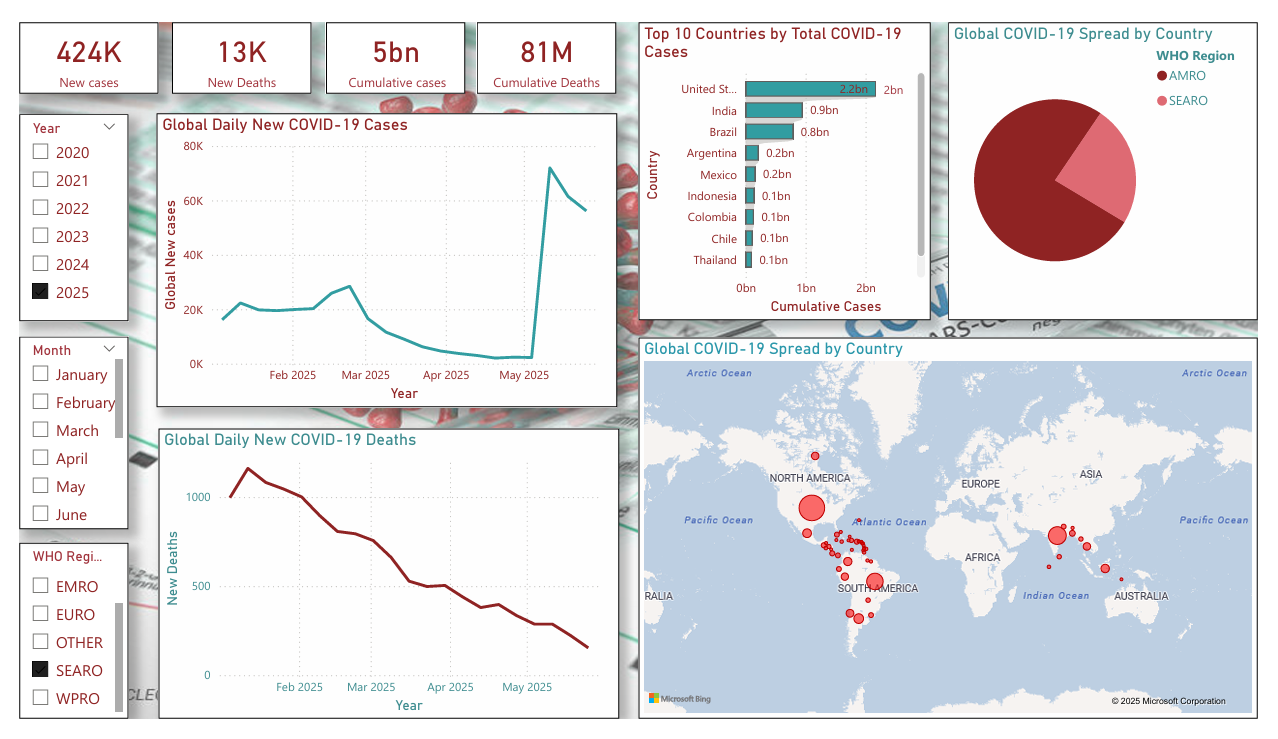

Layout of this report page (visuals, bound fields, positions):
{"tool":"powerbi","page":{"name":"Page 1","canvas":[1280,720],"ordinal":0},"visuals":[{"type":"lineChart","title":"Global Daily New COVID-19 Cases","fields":{"Y":["Sum(WHO_COVID19_cleaned.New_cases)"],"Category":["WHO_COVID19_cleaned.Date_reported.Variation.Date Hierarchy.Year","WHO_COVID19_cleaned.Date_reported.Variation.Date Hierarchy.Month","WHO_COVID19_cleaned.Date_reported.Variation.Date Hierarchy.Day"]},"box":[142,94,476,304],"z":0},{"type":"card","fields":{"Values":["Sum(WHO_COVID19_cleaned.New_cases)"]},"box":[0,0,144.1,74.1],"z":1000},{"type":"card","fields":{"Values":["Sum(WHO_COVID19_cleaned.New_deaths)"]},"box":[157.8,0,144.1,74.1],"z":2000},{"type":"card","fields":{"Values":["Sum(WHO_COVID19_cleaned.Cumulative_cases)"]},"box":[317,0,144.1,74.1],"z":3000},{"type":"card","fields":{"Values":["Sum(WHO_COVID19_cleaned.Cumulative_deaths)"]},"box":[473.4,0,144.1,74.1],"z":4000},{"type":"slicer","fields":{"Values":["WHO_COVID19_cleaned.Date_reported.Variation.Date Hierarchy.Year"]},"box":[0,94.7,112.5,214.1],"z":5000},{"type":"slicer","fields":{"Values":["WHO_COVID19_cleaned.WHO_region"]},"box":[0,537.9,112.5,182.5],"z":6000},{"type":"lineChart","title":"Global Daily New COVID-19 Deaths","fields":{"Category":["WHO_COVID19_cleaned.Date_reported.Variation.Date Hierarchy.Year","WHO_COVID19_cleaned.Date_reported.Variation.Date Hierarchy.Month","WHO_COVID19_cleaned.Date_reported.Variation.Date Hierarchy.Day"],"Y":["Sum(WHO_COVID19_cleaned.New_deaths)"]},"box":[144,420,476,300],"z":7000},{"type":"barChart","title":"Top 10 Countries by Total COVID-19 Cases","fields":{"Y":["Sum(WHO_COVID19_cleaned.Cumulative_cases)"],"Category":["WHO_COVID19_cleaned.Country"]},"box":[640,0,302,308],"z":8000},{"type":"slicer","fields":{"Values":["WHO_COVID19_cleaned.Date_reported.Variation.Date Hierarchy.Month"]},"box":[0,325.2,112.5,199],"z":9000},{"type":"pieChart","title":"Global COVID-19 Spread by Country","fields":{"Y":["Sum(WHO_COVID19_cleaned.Cumulative_cases)"],"Category":["WHO_COVID19_cleaned.WHO_region"]},"box":[960,0,320,308],"z":10000},{"type":"map","title":"Global COVID-19 Spread by Country","fields":{"Category":["WHO_COVID19_cleaned.Country"],"Size":["Sum(WHO_COVID19_cleaned.Cumulative_cases)"]},"box":[640,326,640,394],"z":11000}]}

Visuals, with their boxes in screenshot pixels (x1, y1, x2, y2), scaled from the page's 1280x720 canvas onto the 1278x739 screenshot:
"Global Daily New COVID-19 Cases" lineChart: left=142, top=96, right=617, bottom=409
card - Sum(WHO_COVID19_cleaned.New_cases): left=0, top=0, right=144, bottom=76
card - Sum(WHO_COVID19_cleaned.New_deaths): left=158, top=0, right=301, bottom=76
card - Sum(WHO_COVID19_cleaned.Cumulative_cases): left=317, top=0, right=460, bottom=76
card - Sum(WHO_COVID19_cleaned.Cumulative_deaths): left=473, top=0, right=617, bottom=76
slicer - WHO_COVID19_cleaned.Date_reported.Variation.Date Hierarchy.Year: left=0, top=97, right=112, bottom=317
slicer - WHO_COVID19_cleaned.WHO_region: left=0, top=552, right=112, bottom=738
"Global Daily New COVID-19 Deaths" lineChart: left=144, top=431, right=619, bottom=738
"Top 10 Countries by Total COVID-19 Cases" barChart: left=639, top=0, right=941, bottom=316
slicer - WHO_COVID19_cleaned.Date_reported.Variation.Date Hierarchy.Month: left=0, top=334, right=112, bottom=538
"Global COVID-19 Spread by Country" pieChart: left=958, top=0, right=1277, bottom=316
"Global COVID-19 Spread by Country" map: left=639, top=335, right=1277, bottom=738
